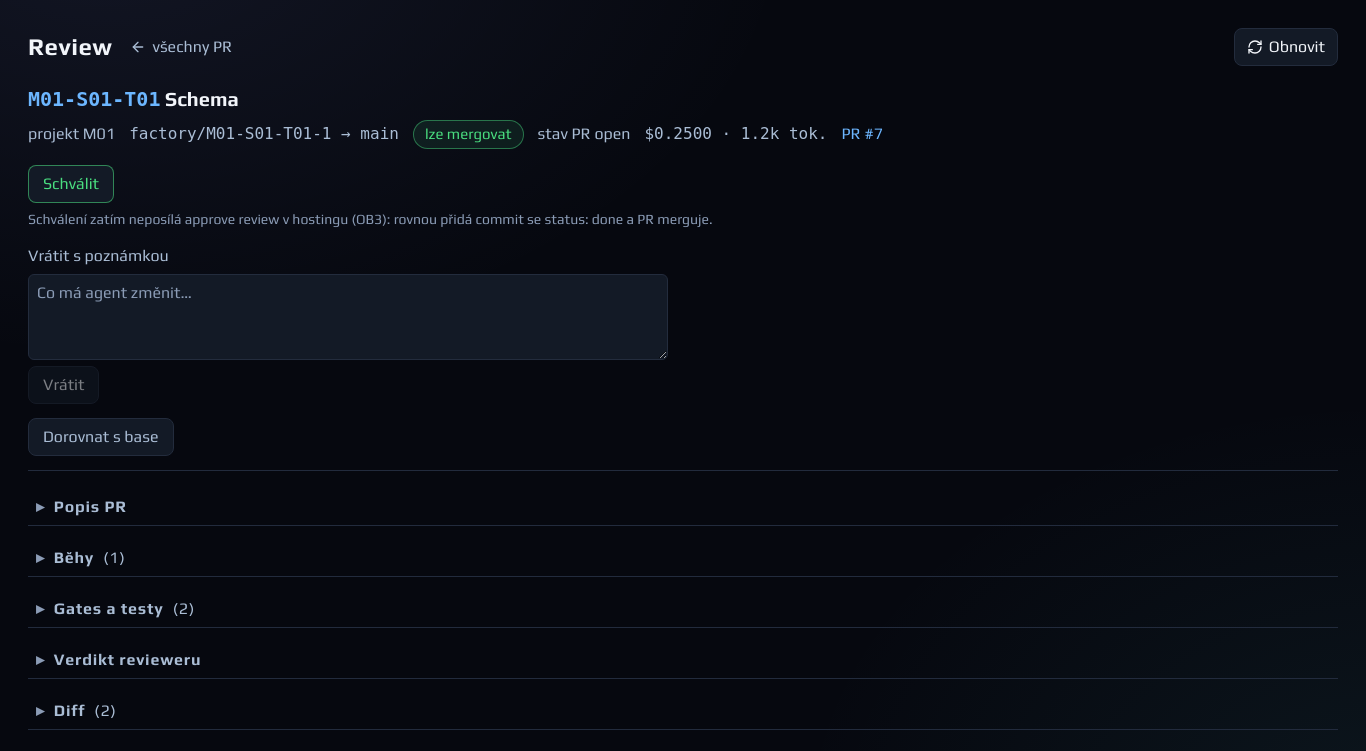
Scenario: ReviewView › shows an API error of an action
The width and height of the screenshot is (1366, 751).
Click the button with test id "approve" at (71, 184), box [28, 164, 114, 202]
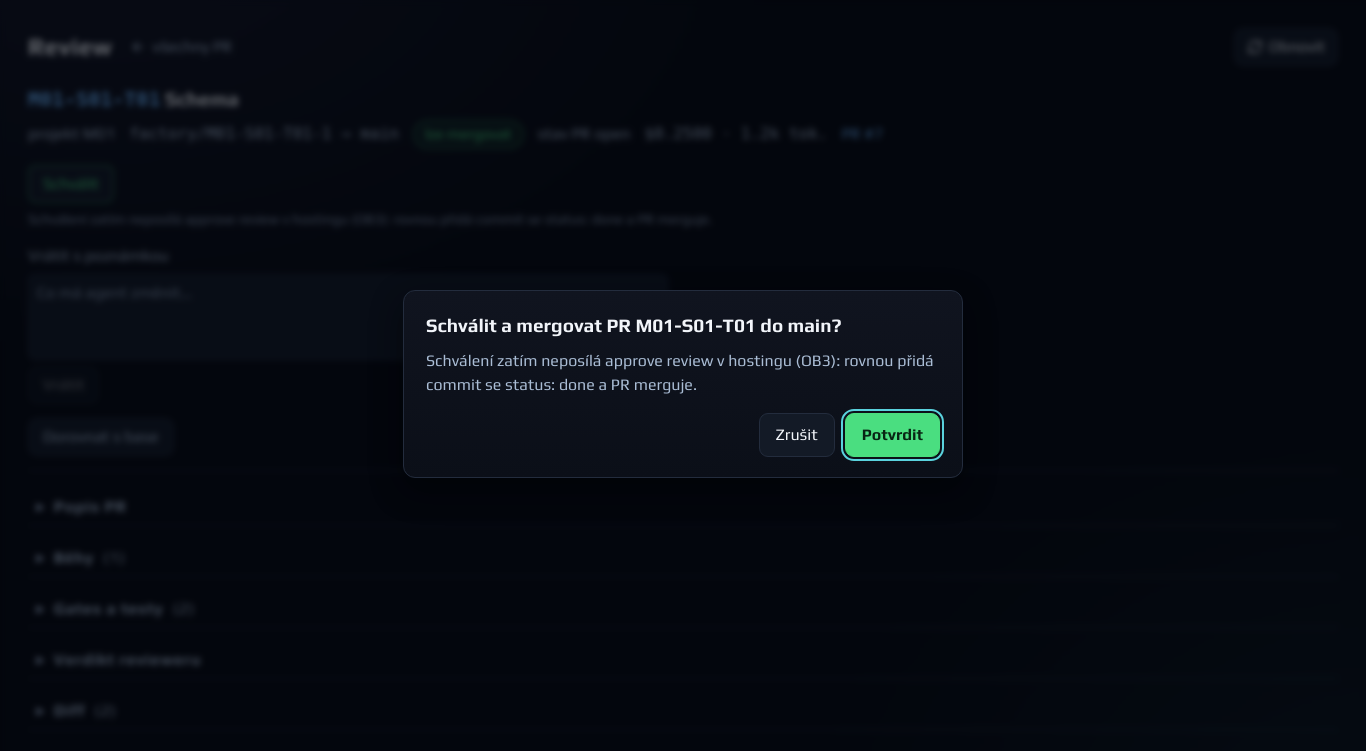
Click the button with test id "confirm-ok" at (892, 435), box [845, 413, 940, 457]
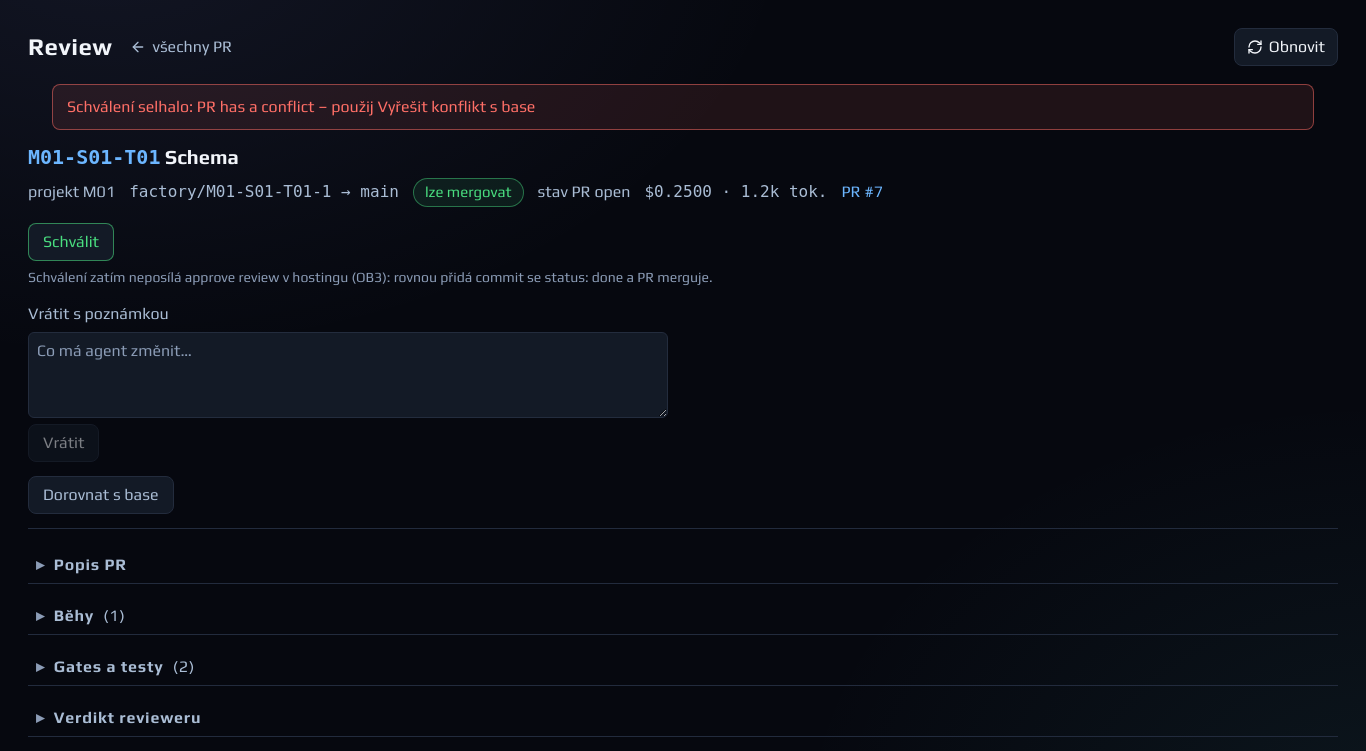
Expected: the text with test id "error" shows "PR has a conflict", [67, 97, 535, 116]
Expected: the text with test id "error" shows "použij Vyřešit konflikt s base", [67, 97, 535, 116]
